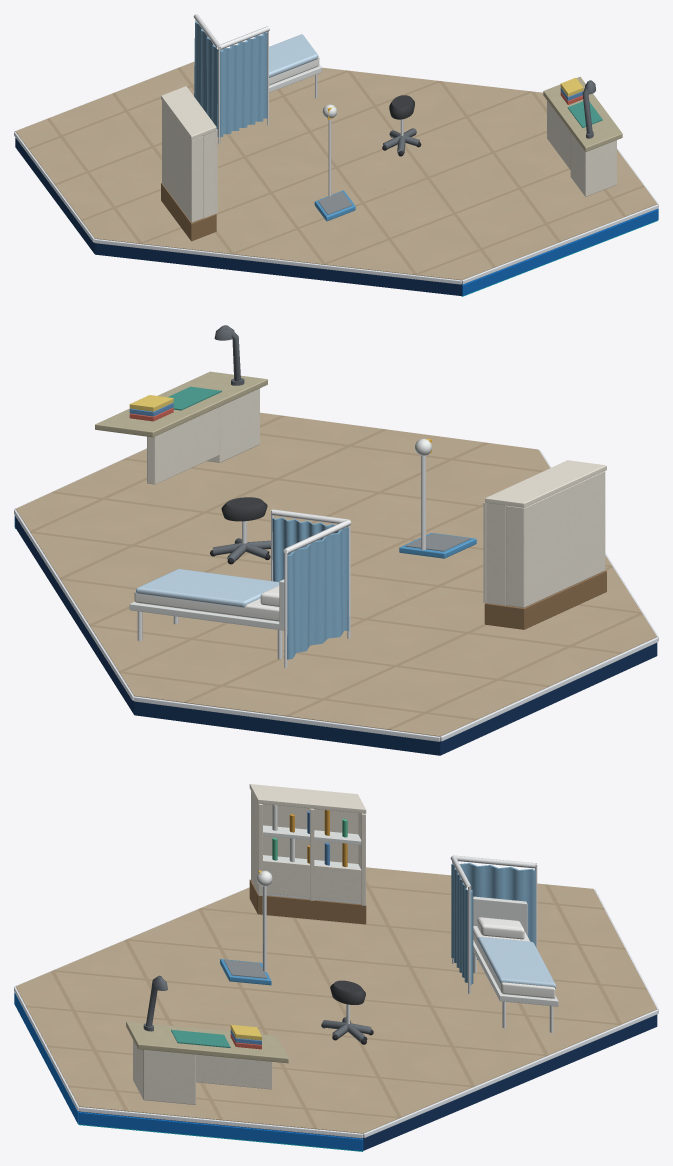
Rendered from field_cm16_01.glb.
The picture shows the model from 3 angles, top to bottom: view 1: azimuth 30°, elevation 25°; view 2: azimuth 150°, elevation 25°; view 3: azimuth 270°, elevation 25°; orthographic projection. The views are drawn at different scales.
Parts seen in each view (by area): view 1: field_cm16_01-clinic; view 2: field_cm16_01-clinic; view 3: field_cm16_01-clinic.
Boxes of the visible parts, x1,y1,x2,y2 form: field_cm16_01-clinic: (14, 14, 658, 296); field_cm16_01-clinic: (14, 325, 658, 755); field_cm16_01-clinic: (14, 784, 658, 1151).
Size of the model in its own units: 7.87 by 1.8 by 7.87.
Materials: 1 (1 with a texture image).
